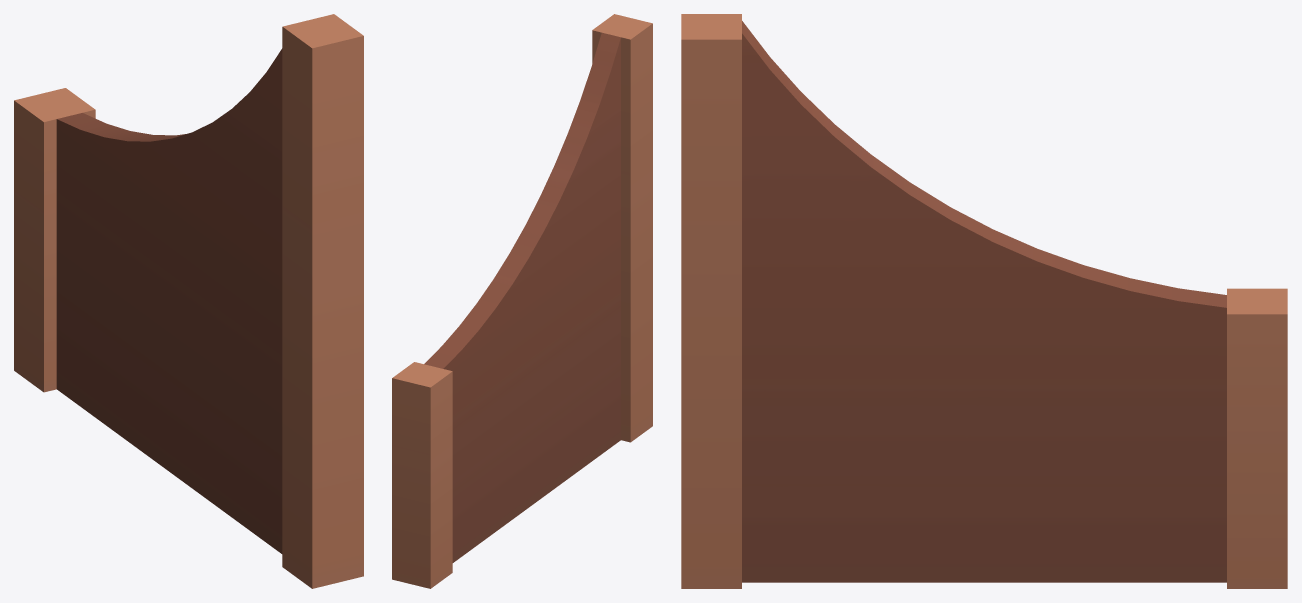
The model's file is wall-wood-slope.glb.
3 views of the same model, side by side, from view 1: azimuth 30°, elevation 25°; view 2: azimuth 150°, elevation 25°; view 3: azimuth 270°, elevation 25° (orthographic). The views are drawn at different scales.
Visible parts, largest first — view 1: wall-wood-slope; view 2: wall-wood-slope; view 3: wall-wood-slope.
Part boxes in pixels (left/top/right/bottom): wall-wood-slope: left=14, top=14, right=363, bottom=588; wall-wood-slope: left=392, top=14, right=652, bottom=588; wall-wood-slope: left=681, top=14, right=1287, bottom=588.
Size of the model in its own units: 0.1 by 1 by 1.
Materials: 1 (1 with a texture image).
